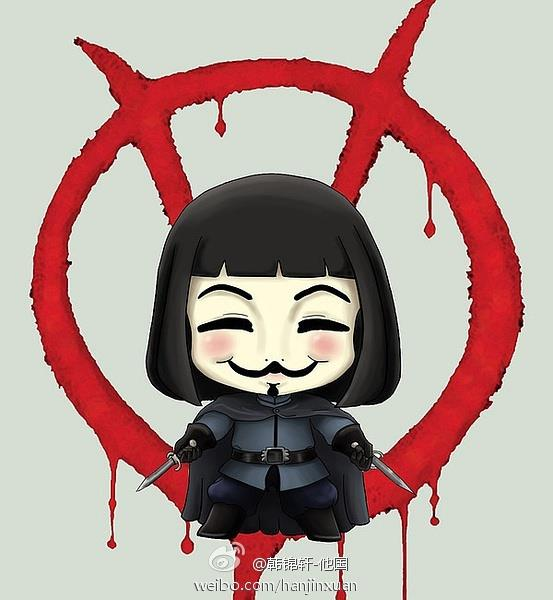V4Vendetta_mask: (187, 273, 358, 396)
